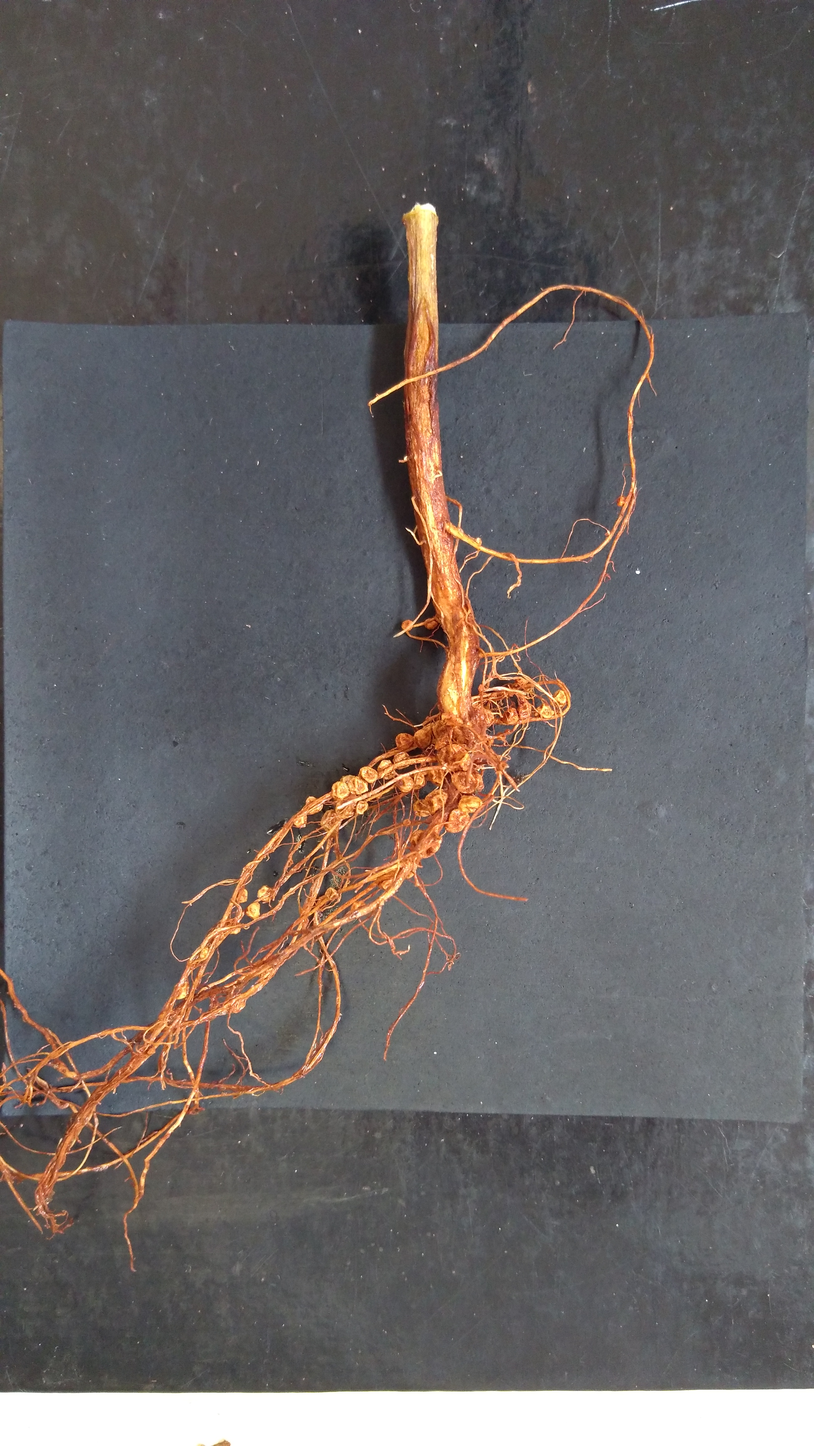nodule: (436, 744, 472, 773), (449, 769, 485, 795), (443, 807, 471, 835), (419, 832, 444, 859), (339, 774, 370, 795), (424, 788, 449, 814), (430, 718, 450, 750), (318, 808, 341, 832), (458, 794, 487, 813), (225, 992, 247, 1016), (303, 795, 324, 816), (375, 759, 395, 781), (413, 728, 432, 751), (393, 731, 414, 751), (357, 765, 378, 785), (329, 781, 350, 801), (412, 798, 432, 819), (335, 799, 356, 819), (498, 707, 519, 726), (392, 751, 413, 770), (552, 688, 570, 710), (478, 706, 497, 726), (395, 775, 414, 794), (255, 884, 274, 903), (427, 768, 445, 787), (244, 902, 261, 921), (537, 703, 555, 720), (354, 800, 371, 817), (517, 701, 533, 719), (175, 982, 190, 1001), (408, 829, 424, 846), (400, 618, 416, 634), (423, 617, 441, 631), (412, 772, 426, 789), (234, 888, 249, 903), (324, 887, 338, 899), (380, 878, 395, 889), (351, 899, 366, 910), (199, 947, 209, 960), (616, 496, 625, 507), (401, 818, 412, 826), (476, 683, 484, 692)
